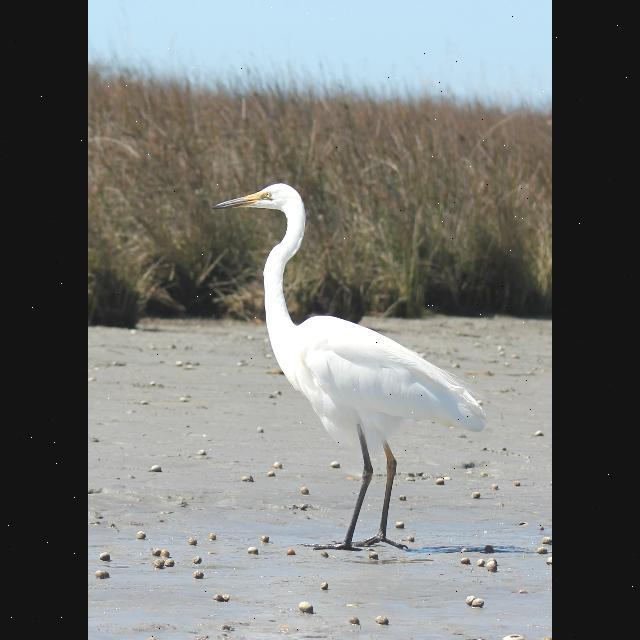egret: (202, 173, 494, 562)
